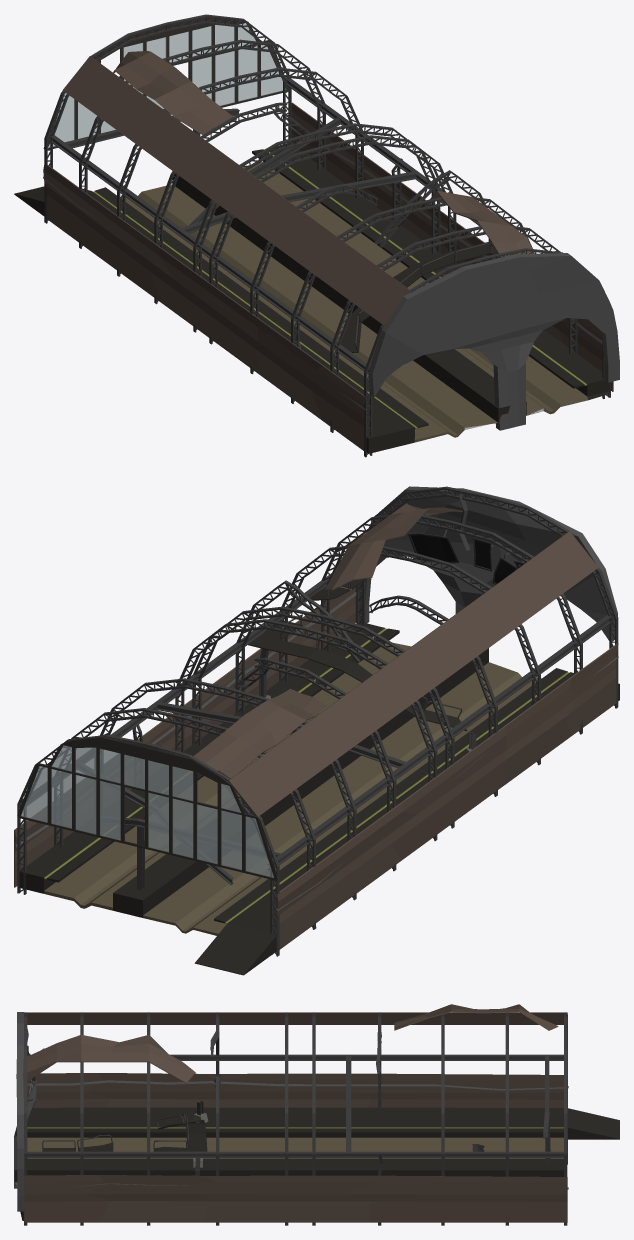
The model's file is Train Station.fbx.
3 renders of one model, top to bottom at view 1: azimuth 30°, elevation 25°; view 2: azimuth 150°, elevation 25°; view 3: azimuth 270°, elevation 25°, orthographic. The views are drawn at different scales.
Visible parts, largest first — view 1: pCube768; view 2: pCube768; view 3: pCube768.
Boxes of the visible parts, box(x1,y1,x2,y2) form: pCube768: box(14, 14, 619, 457); pCube768: box(14, 486, 619, 975); pCube768: box(14, 1004, 619, 1225).
Size of the model in its own units: 25.01 by 16.78 by 61.43.
